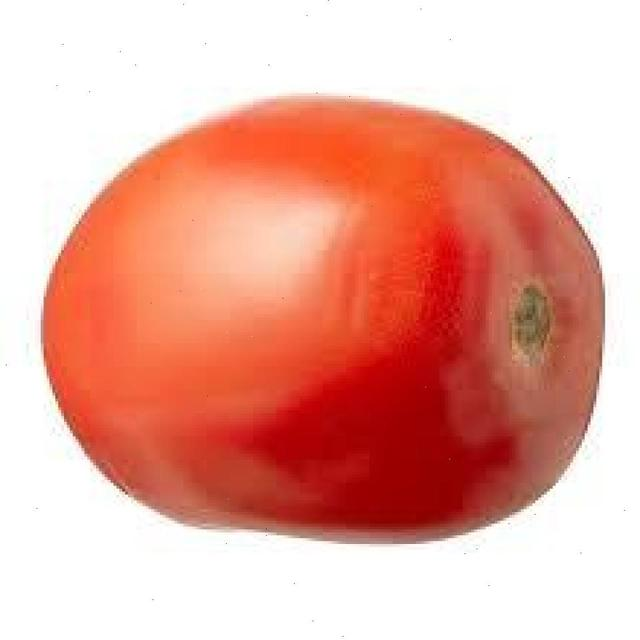Healthy Fruit: (26, 51, 412, 367)
